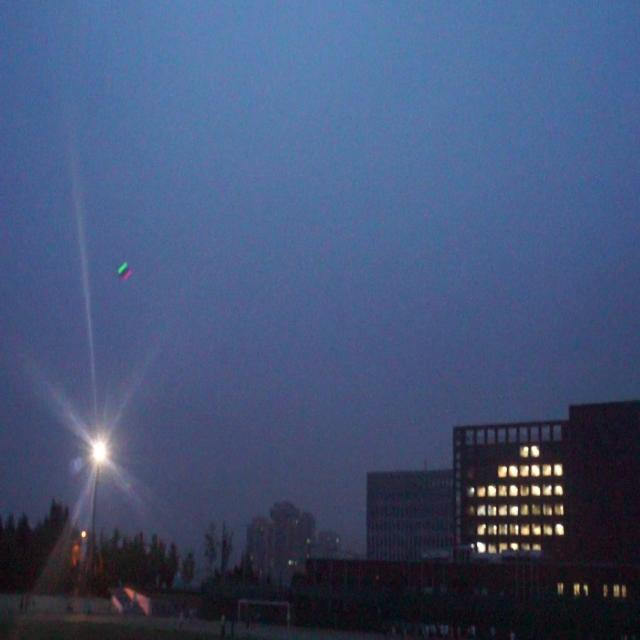UAV: (117, 260, 133, 280)
